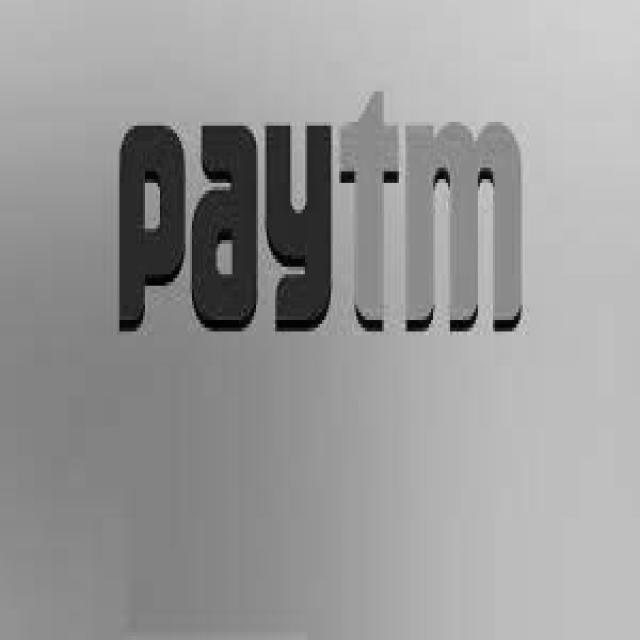fully_visible: (112, 80, 536, 356)
